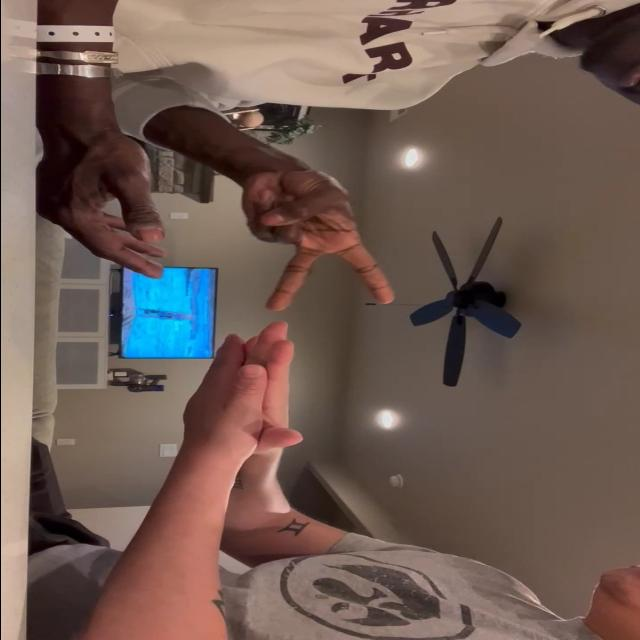Paper: (240, 320, 304, 454)
Scissors: (226, 165, 398, 311)
